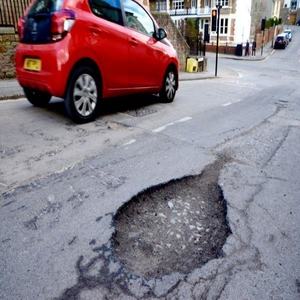pothole: (103, 167, 238, 280)
